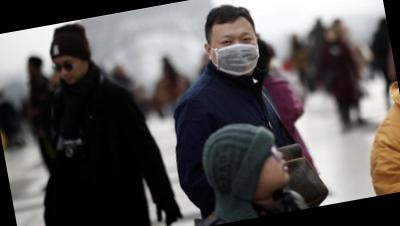with_mask: (209, 28, 266, 81)
without_mask: (257, 144, 294, 193), (51, 54, 88, 88)
